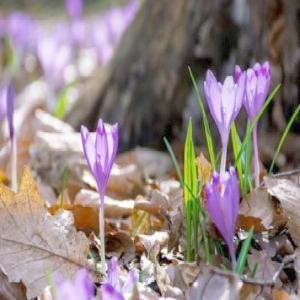Saffron: (78, 120, 120, 210), (204, 65, 243, 146), (204, 166, 241, 251), (240, 61, 268, 132)
